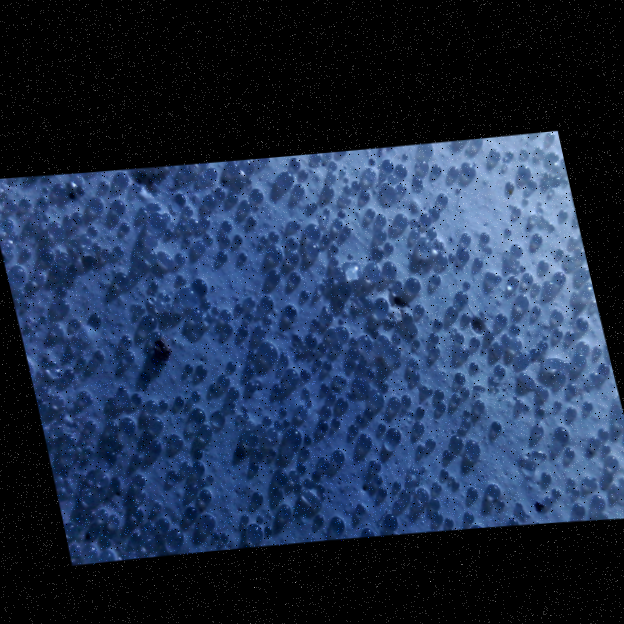GrassBeadSeg: (116, 171, 428, 393), (454, 288, 605, 510), (149, 211, 348, 342), (106, 487, 424, 560), (54, 296, 401, 362), (164, 254, 274, 454), (16, 278, 135, 429), (252, 425, 402, 539), (101, 300, 164, 556), (241, 183, 351, 311), (335, 438, 481, 532), (431, 206, 580, 298), (80, 440, 300, 498), (23, 198, 226, 259), (421, 384, 519, 507), (79, 389, 148, 555), (451, 329, 532, 469), (234, 212, 346, 311), (380, 183, 469, 305), (198, 174, 339, 251), (244, 160, 340, 273), (192, 182, 293, 288), (304, 175, 476, 235), (460, 161, 529, 308), (205, 427, 301, 529), (478, 202, 540, 353), (387, 274, 516, 345), (90, 401, 158, 531), (30, 202, 242, 243), (218, 242, 338, 314), (333, 187, 445, 262), (134, 453, 229, 541), (154, 468, 286, 530), (246, 418, 324, 522), (262, 459, 381, 523), (338, 396, 411, 499), (5, 219, 124, 279), (55, 324, 203, 372), (390, 307, 458, 406), (448, 164, 522, 254), (86, 522, 262, 559), (337, 158, 390, 277), (143, 314, 230, 386), (264, 348, 306, 496), (414, 420, 474, 521), (344, 176, 400, 284), (268, 447, 451, 480), (467, 243, 520, 356), (446, 144, 543, 204), (153, 489, 428, 510), (490, 425, 569, 498), (336, 196, 395, 293), (487, 236, 592, 290), (410, 369, 502, 430), (462, 417, 550, 480), (207, 165, 279, 242), (109, 419, 153, 544), (184, 296, 274, 357), (422, 172, 529, 223), (503, 160, 557, 257), (146, 399, 199, 494), (45, 350, 133, 407), (220, 480, 295, 541), (335, 374, 381, 472), (317, 245, 421, 288), (169, 435, 212, 539), (41, 185, 166, 218), (198, 244, 281, 293), (298, 162, 374, 215), (129, 266, 203, 320), (60, 285, 196, 314), (43, 292, 171, 322), (463, 412, 504, 504), (374, 302, 422, 378), (226, 339, 342, 370), (280, 368, 308, 496), (40, 383, 117, 429), (480, 231, 540, 290), (225, 372, 310, 413), (29, 221, 128, 256), (101, 482, 194, 519), (307, 207, 345, 297), (311, 221, 343, 327), (437, 151, 500, 204), (208, 269, 298, 306), (272, 253, 298, 381), (518, 310, 563, 382), (15, 182, 139, 208), (467, 485, 585, 512), (379, 292, 530, 313), (272, 406, 307, 496), (1, 217, 69, 263), (251, 339, 339, 373), (278, 169, 320, 239), (73, 489, 144, 530), (193, 159, 234, 230), (345, 163, 420, 201), (542, 426, 615, 465), (154, 441, 193, 513), (363, 445, 398, 524), (274, 383, 305, 471), (531, 231, 590, 276), (153, 182, 247, 209), (573, 457, 618, 513), (324, 183, 387, 223), (527, 153, 566, 217), (289, 377, 385, 403), (420, 159, 551, 178), (16, 288, 81, 326), (6, 176, 82, 208), (88, 196, 164, 228), (458, 259, 483, 356), (393, 448, 451, 489), (253, 359, 329, 390), (262, 315, 327, 351), (10, 234, 62, 278), (299, 317, 394, 341), (199, 488, 290, 513), (305, 333, 347, 387), (244, 175, 314, 207), (379, 228, 465, 254), (178, 218, 227, 263), (221, 187, 259, 244), (454, 446, 500, 493), (334, 325, 366, 392), (96, 215, 208, 234), (512, 320, 588, 348), (211, 255, 247, 314), (97, 472, 143, 518), (2, 238, 111, 257), (530, 135, 554, 221), (134, 473, 170, 529), (319, 399, 349, 466), (427, 168, 561, 183), (86, 452, 116, 518), (455, 155, 507, 193), (362, 189, 394, 250), (259, 448, 309, 487), (60, 423, 114, 459), (166, 399, 199, 457), (294, 170, 376, 193), (510, 163, 530, 257), (558, 438, 597, 486), (303, 413, 365, 443), (23, 270, 73, 307), (577, 316, 610, 372), (502, 159, 543, 204), (546, 130, 567, 217), (447, 229, 512, 257), (58, 279, 186, 293), (365, 167, 385, 256), (109, 474, 146, 522), (440, 418, 470, 477), (189, 167, 218, 226), (544, 482, 620, 504), (212, 472, 246, 521), (139, 187, 173, 236), (191, 210, 225, 259), (112, 207, 148, 253), (45, 220, 78, 270), (342, 293, 373, 346), (448, 474, 501, 505), (520, 307, 560, 348), (419, 345, 463, 382), (466, 256, 520, 286), (334, 211, 440, 226), (175, 178, 244, 201), (376, 211, 437, 237), (89, 311, 133, 347), (253, 313, 325, 335), (289, 452, 345, 480), (405, 185, 435, 237), (418, 163, 439, 237), (250, 420, 281, 470), (347, 255, 402, 283), (461, 226, 509, 258), (206, 168, 307, 183), (379, 334, 400, 406), (300, 259, 339, 297), (397, 181, 432, 223), (167, 468, 211, 501), (278, 391, 336, 416), (245, 315, 270, 373), (119, 272, 160, 307), (93, 523, 144, 551), (284, 304, 318, 346), (506, 315, 539, 358), (253, 472, 300, 502), (17, 213, 71, 239), (198, 422, 256, 446), (33, 197, 50, 278), (263, 423, 306, 455), (415, 364, 501, 380), (170, 434, 205, 473), (515, 187, 531, 272), (154, 406, 206, 432), (47, 210, 103, 234), (57, 391, 139, 407), (174, 512, 216, 543), (254, 480, 284, 523), (157, 336, 193, 371), (171, 263, 216, 291), (87, 447, 121, 484), (188, 370, 262, 387), (382, 259, 420, 292), (532, 251, 564, 290), (422, 424, 437, 507), (374, 245, 447, 262), (54, 183, 84, 224), (463, 351, 482, 415), (456, 147, 498, 175), (414, 166, 460, 191), (52, 354, 104, 376), (271, 478, 291, 534), (80, 232, 124, 257), (338, 252, 353, 323), (396, 178, 418, 226), (287, 185, 304, 247), (148, 306, 198, 327), (505, 149, 524, 204), (394, 499, 443, 520), (352, 375, 384, 407), (113, 194, 186, 208), (275, 403, 305, 437), (421, 179, 513, 190), (565, 253, 593, 289), (537, 217, 563, 255), (261, 426, 274, 501), (89, 224, 185, 234), (237, 348, 256, 397), (111, 455, 142, 485), (208, 176, 239, 206), (92, 226, 129, 251), (184, 205, 205, 248), (527, 374, 542, 434), (329, 160, 361, 188), (461, 231, 542, 242), (291, 173, 307, 228), (81, 499, 97, 554), (330, 515, 397, 528), (72, 349, 103, 377), (401, 151, 509, 159), (38, 371, 61, 408), (51, 314, 101, 331), (279, 487, 309, 514), (209, 361, 235, 392), (261, 295, 296, 318), (400, 487, 440, 507), (322, 174, 342, 214), (215, 422, 257, 441), (373, 211, 393, 250), (200, 295, 231, 319), (159, 506, 198, 525), (363, 407, 370, 512), (385, 481, 437, 495), (236, 387, 258, 420), (551, 485, 623, 495), (295, 272, 304, 352), (221, 298, 255, 319), (516, 465, 533, 507), (318, 305, 330, 364), (448, 433, 480, 455), (375, 213, 407, 235), (125, 415, 164, 433), (311, 152, 336, 180), (238, 325, 258, 360), (72, 210, 92, 245), (438, 275, 455, 316), (304, 344, 357, 357), (422, 271, 438, 314), (365, 342, 384, 378), (443, 448, 460, 488), (338, 318, 378, 335), (371, 273, 390, 308), (520, 148, 537, 187), (170, 460, 200, 482), (133, 490, 146, 540), (67, 433, 95, 456), (393, 324, 421, 347), (74, 171, 109, 189), (133, 303, 144, 360), (47, 368, 73, 392), (267, 229, 279, 281), (396, 164, 407, 220), (519, 178, 536, 214), (463, 374, 480, 410), (133, 247, 152, 279), (257, 335, 357, 341), (112, 504, 139, 526), (65, 288, 80, 327), (120, 334, 129, 398), (301, 386, 311, 443), (563, 352, 584, 379), (356, 500, 403, 512), (239, 240, 268, 259), (38, 185, 66, 204), (451, 258, 470, 286), (298, 223, 351, 233), (438, 482, 450, 526), (496, 310, 512, 343), (291, 323, 320, 341), (231, 308, 251, 334), (358, 432, 401, 444), (365, 260, 397, 276), (280, 352, 287, 425), (363, 345, 402, 358), (117, 385, 143, 404), (154, 299, 167, 337), (97, 474, 109, 515), (247, 512, 269, 534), (71, 184, 83, 224), (227, 190, 251, 210), (157, 273, 185, 290), (492, 341, 506, 375), (36, 248, 50, 282), (53, 391, 92, 403), (182, 448, 203, 470), (144, 280, 158, 313), (537, 350, 547, 396), (191, 383, 218, 400), (482, 400, 497, 430), (369, 170, 385, 198), (547, 368, 563, 396), (464, 489, 478, 521), (414, 168, 440, 185), (199, 365, 225, 382), (315, 482, 326, 522), (147, 501, 162, 530), (297, 461, 321, 479), (246, 380, 282, 392), (357, 339, 381, 357), (53, 420, 96, 430), (587, 343, 598, 382), (530, 257, 547, 282), (213, 186, 238, 203), (322, 228, 352, 242), (195, 409, 225, 423), (353, 327, 379, 343), (541, 469, 553, 503), (148, 248, 182, 260), (239, 189, 263, 206), (241, 214, 255, 243), (412, 323, 457, 332), (21, 247, 29, 297), (265, 268, 275, 308), (572, 241, 579, 298), (469, 234, 490, 253), (318, 341, 332, 369), (188, 460, 203, 486), (563, 265, 587, 281), (473, 246, 492, 266), (374, 474, 401, 488), (65, 513, 86, 531), (296, 241, 317, 259), (117, 201, 144, 215), (388, 221, 419, 233), (151, 436, 182, 448), (307, 387, 333, 401), (307, 446, 318, 479), (339, 163, 372, 174), (239, 418, 290, 425), (83, 180, 108, 194), (177, 219, 191, 244), (586, 488, 606, 505), (160, 395, 184, 409), (368, 156, 405, 165), (549, 150, 559, 183), (26, 307, 48, 322), (175, 391, 200, 404), (223, 323, 248, 336), (283, 357, 323, 365), (273, 407, 287, 429), (434, 510, 454, 525), (255, 219, 267, 244), (204, 188, 225, 202), (218, 220, 232, 240), (291, 157, 321, 166), (327, 448, 342, 466), (542, 149, 551, 179), (542, 261, 551, 290), (557, 485, 580, 496), (356, 408, 374, 422), (257, 415, 271, 433), (172, 231, 190, 245), (446, 467, 457, 489), (45, 249, 65, 261), (72, 436, 85, 454), (329, 237, 338, 263), (245, 294, 254, 320), (551, 270, 563, 289), (252, 414, 268, 428), (86, 418, 94, 446), (228, 385, 236, 413), (231, 158, 247, 172), (309, 200, 326, 213), (497, 332, 508, 352), (512, 184, 519, 215), (566, 475, 576, 496), (64, 435, 75, 454), (569, 236, 577, 262), (396, 228, 419, 237), (578, 340, 587, 363), (598, 361, 608, 381), (612, 474, 623, 492), (77, 510, 95, 521), (42, 192, 49, 220), (288, 239, 297, 260), (386, 160, 403, 171), (517, 271, 530, 284), (310, 477, 322, 491), (156, 208, 171, 219), (196, 238, 212, 248), (204, 220, 211, 242), (344, 179, 351, 201), (9, 230, 17, 249), (327, 165, 337, 180), (140, 532, 152, 544), (99, 246, 110, 258), (403, 311, 414, 323), (351, 179, 360, 192), (253, 447, 258, 469), (379, 473, 384, 494), (204, 471, 211, 486), (534, 404, 544, 414), (566, 381, 576, 391), (601, 442, 611, 452), (553, 398, 562, 409), (590, 434, 599, 445), (385, 173, 396, 182), (435, 388, 444, 398), (409, 357, 418, 367), (379, 380, 388, 390), (350, 422, 359, 432), (322, 404, 331, 414), (484, 329, 493, 339), (515, 398, 524, 408), (565, 446, 574, 456), (462, 311, 470, 322), (599, 427, 607, 438), (461, 386, 470, 395), (434, 318, 443, 327), (567, 406, 576, 415), (416, 405, 424, 415), (403, 394, 411, 404), (437, 401, 445, 411), (378, 421, 386, 431), (393, 333, 401, 343), (320, 419, 328, 429), (332, 416, 340, 426), (427, 437, 435, 447), (417, 443, 425, 453), (539, 339, 547, 349), (532, 304, 540, 314), (566, 329, 574, 339), (584, 399, 592, 409), (516, 262, 526, 270), (512, 265, 522, 273), (430, 332, 438, 341), (432, 345, 440, 354), (322, 382, 330, 391), (452, 393, 460, 402), (470, 361, 478, 370), (455, 332, 463, 341), (471, 336, 479, 345), (511, 323, 519, 332), (554, 327, 562, 336), (593, 344, 601, 353), (521, 194, 528, 204)
